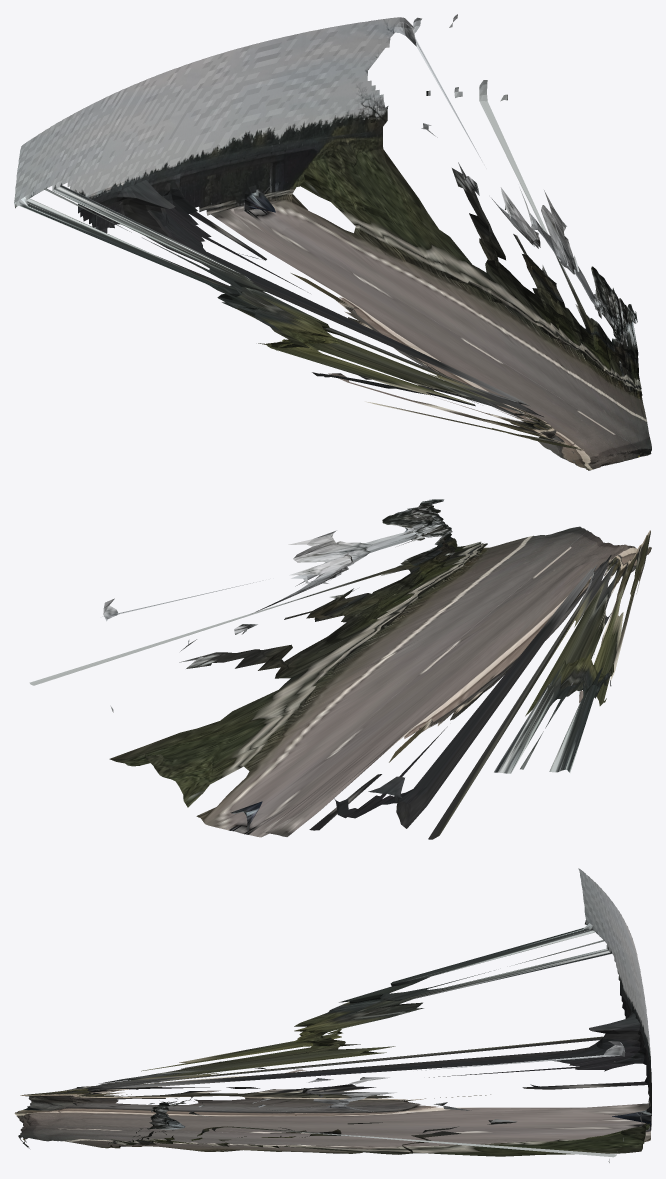
The picture shows the model from 3 angles, top to bottom: view 1: azimuth 30°, elevation 25°; view 2: azimuth 150°, elevation 25°; view 3: azimuth 270°, elevation 25°; orthographic projection. The views are drawn at different scales.
Visible parts, largest first — view 1: defaultobject; view 2: defaultobject; view 3: defaultobject.
Part boxes in pixels (box(x1,y1,x2,y2)): defaultobject: box(14, 14, 651, 470); defaultobject: box(29, 499, 651, 839); defaultobject: box(14, 868, 651, 1162).
Bounding box in the file's own units: 36.38 × 12.18 × 44.69.
Materials: 1 (1 with a texture image).
